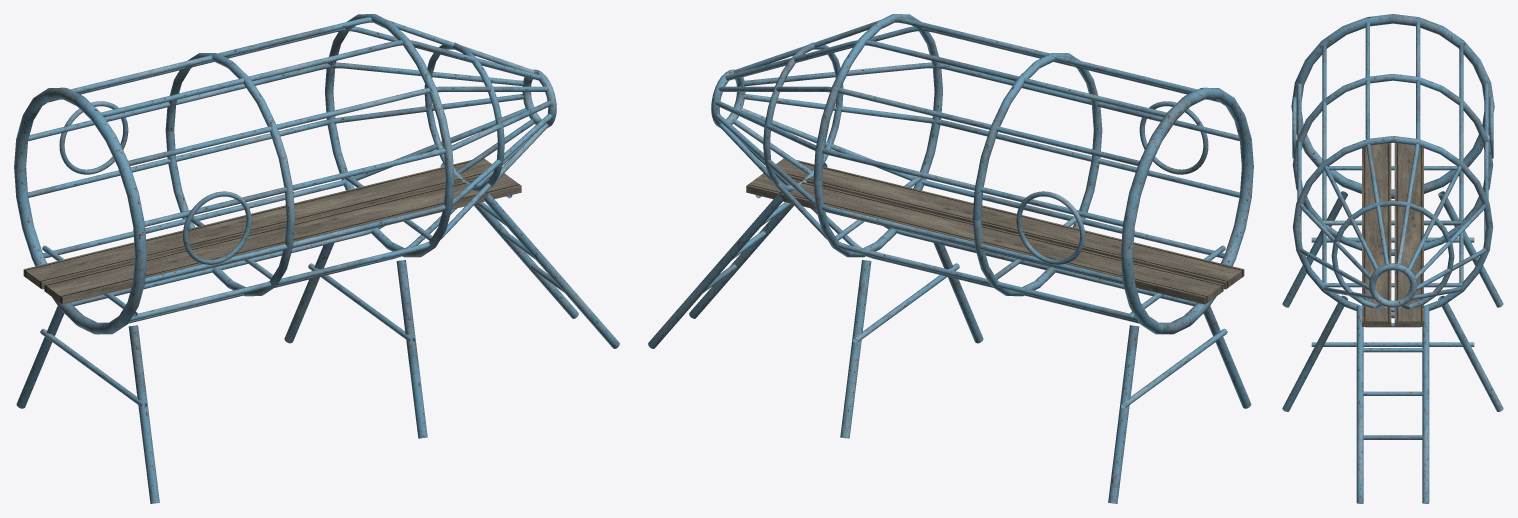
File: playground_rocket_tunnel_web.glb
3 views of the same model, side by side, from view 1: azimuth 30°, elevation 25°; view 2: azimuth 150°, elevation 25°; view 3: azimuth 270°, elevation 25° (orthographic). The views are drawn at different scales.
Parts seen in each view (by area): view 1: RocketTunnel_Mesh; view 2: RocketTunnel_Mesh; view 3: RocketTunnel_Mesh.
Part boxes in pixels (x1=…): RocketTunnel_Mesh: x1=14, y1=14, x2=619, y2=503; RocketTunnel_Mesh: x1=648, y1=14, x2=1253, y2=503; RocketTunnel_Mesh: x1=1282, y1=14, x2=1503, y2=503.
Size of the model in its own units: 2.97 by 1.85 by 1.28.
Materials: 2 (2 with a texture image).
